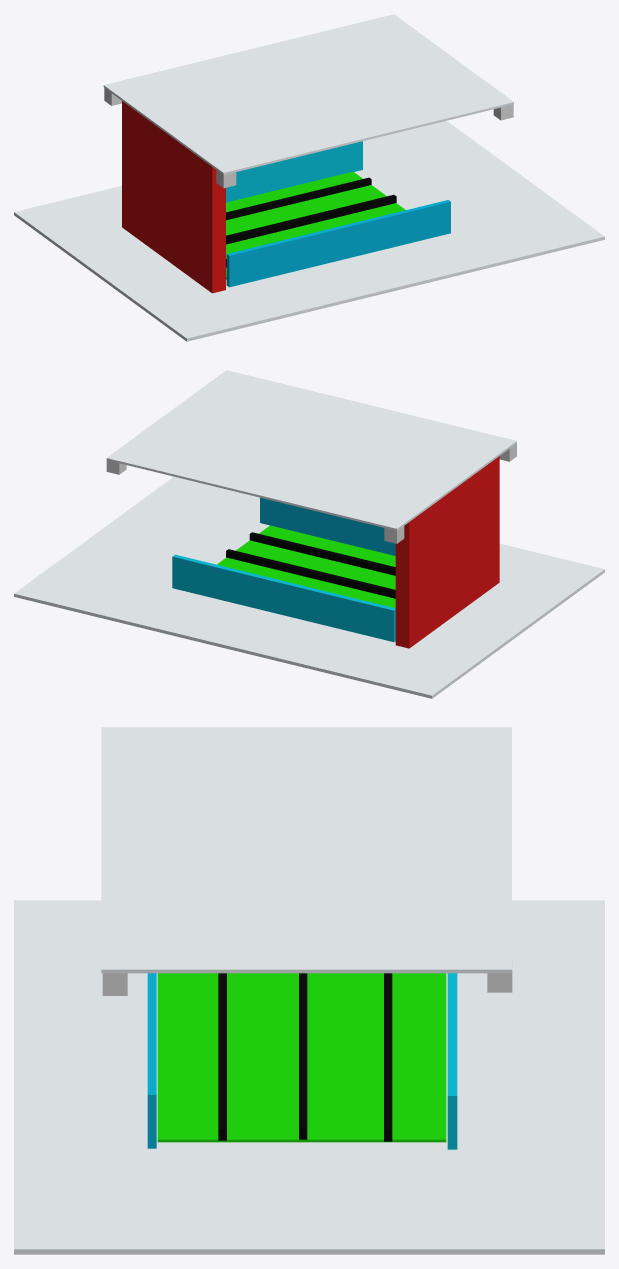
The model's file is bowling_oyun_salonu (1).fbx.
3 views of the same model, one above another, from view 1: azimuth 30°, elevation 25°; view 2: azimuth 150°, elevation 25°; view 3: azimuth 270°, elevation 25° (orthographic). The views are drawn at different scales.
Parts seen in each view (by area): view 1: temel zemin, tavan, arka plan, yan duvar, zemin, yan duvar 1, ayırıcı.003, ayırıcı.001; view 2: temel zemin, tavan, arka plan, yan duvar 1, zemin, yan duvar, ayırıcı.003, ayırıcı; view 3: temel zemin, tavan, zemin, yan duvar 1, yan duvar, ayırıcı.001, ayırıcı, ayırıcı.003.
Part boxes in pixels (x1,y1,x2,y2): temel zemin: (14, 121, 604, 341); tavan: (103, 14, 513, 174); arka plan: (122, 101, 225, 293); yan duvar: (226, 200, 450, 287); zemin: (226, 171, 405, 279); yan duvar 1: (226, 141, 362, 202); ayırıcı.003: (226, 194, 396, 244); ayırıcı.001: (226, 177, 371, 220); temel zemin: (14, 476, 604, 698); tavan: (107, 370, 516, 530); arka plan: (395, 456, 499, 648); yan duvar 1: (172, 554, 395, 641); zemin: (217, 525, 395, 608); yan duvar: (260, 497, 395, 555); ayırıcı.003: (226, 549, 395, 598); ayırıcı: (249, 532, 395, 575); temel zemin: (14, 900, 604, 1254); tavan: (101, 727, 511, 973); zemin: (157, 973, 446, 1142); yan duvar 1: (447, 973, 457, 1149); yan duvar: (147, 973, 156, 1148); ayırıcı.001: (384, 973, 392, 1141); ayırıcı: (218, 973, 226, 1140); ayırıcı.003: (299, 973, 307, 1139).
Size of the model in its own units: 2636 by 834 by 1887.
